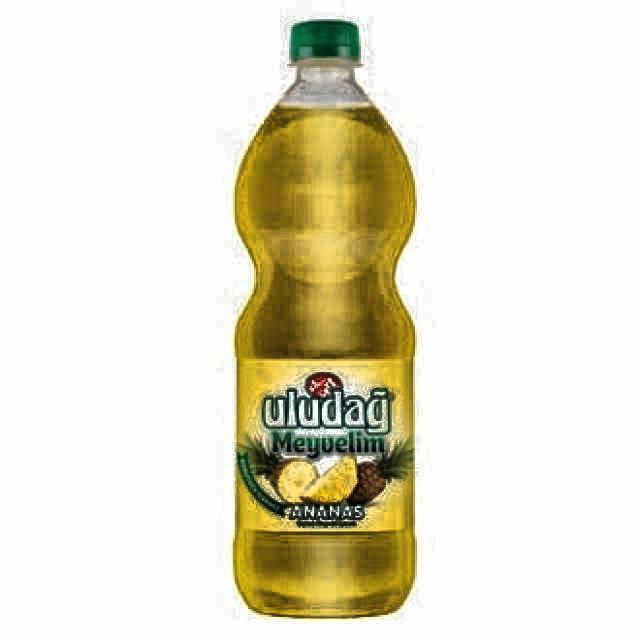plastic: (232, 20, 417, 623)
